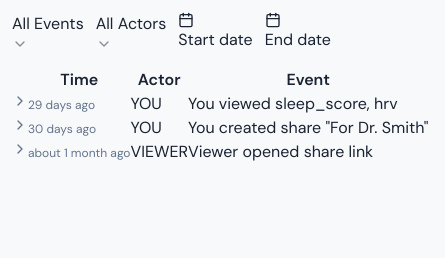
AuditTable › expands event detail row when clicked
Note: Click the first event (which has IP and user agent)
Click the row with test id "audit-event-1" at (220, 104), box [12,92,428,116]
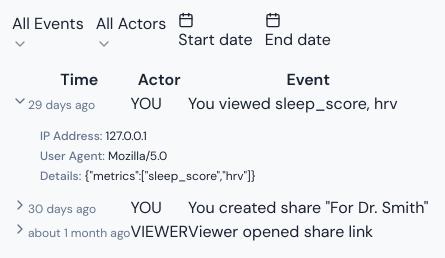
Expected: the row with test id "audit-event-detail-1" is shown, [12,116,428,196]
Expected: the text "127.0.0.1" is shown, [106,128,147,144]
Expected: the text "Mozilla/5.0" is shown, [108,148,167,164]
